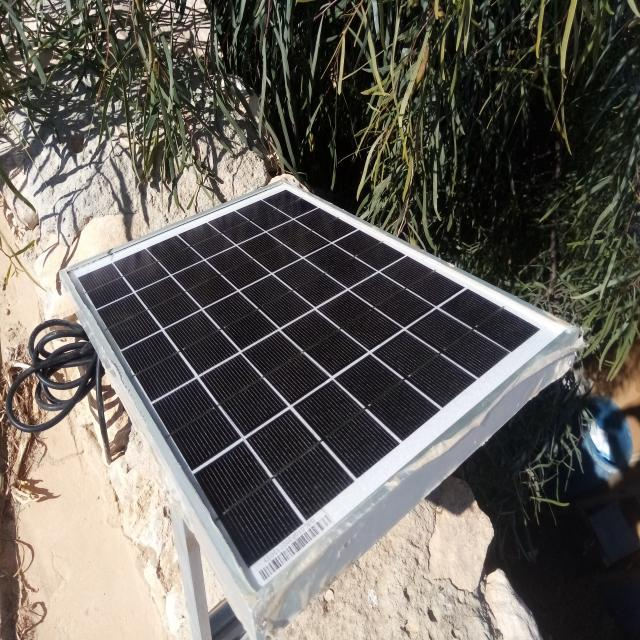no faulty: (65, 185, 568, 605)
